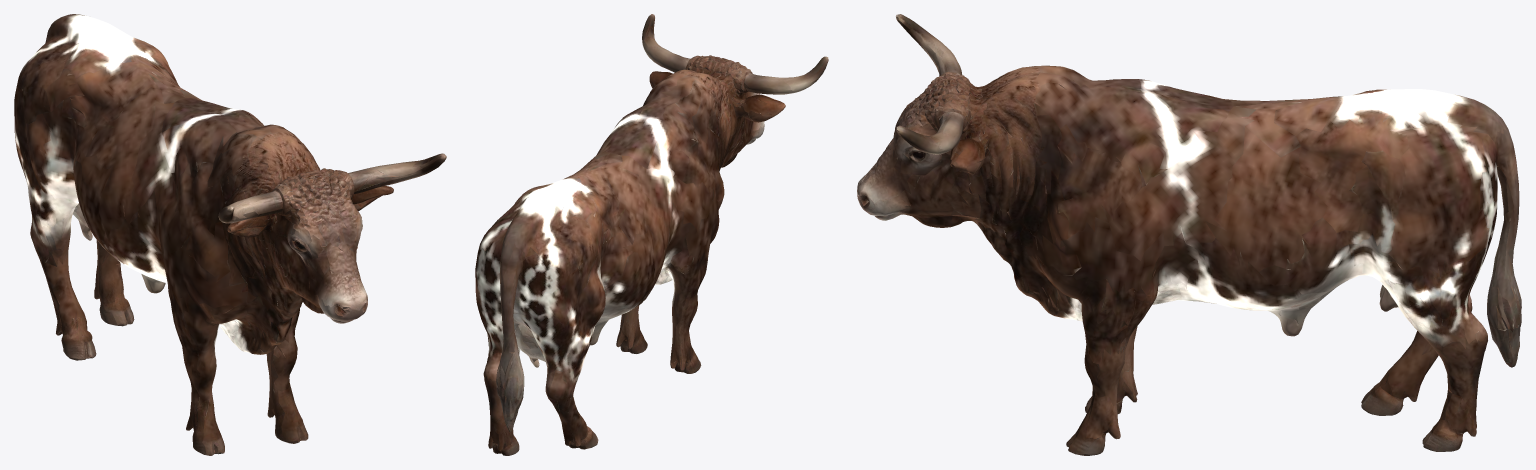
Rendered from bull.glb.
3 views of the same model, side by side, from view 1: azimuth 30°, elevation 25°; view 2: azimuth 150°, elevation 25°; view 3: azimuth 270°, elevation 25° (orthographic). The views are drawn at different scales.
Bounding box in the file's own units: 0.7837 × 1.13 × 1.9.
1 material, 1 textured.
